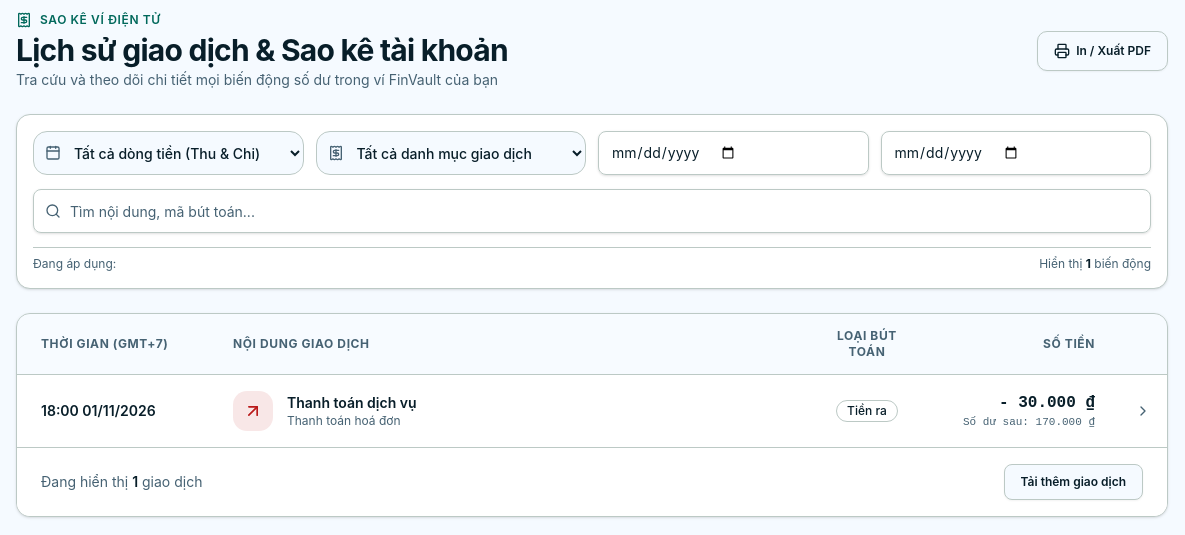
Test: TransactionsPage - Lịch sử giao dịch và bộ lọc ngày/loại [K20] › đổi bộ lọc tự động reset cursor về trang đầu và không trộn cache với dữ liệu cũ
The width and height of the screenshot is (1185, 535).
Expected: the text "Thanh toán hoá đơn" is shown, [287,413,417,429]
Note: Đổi bộ lọc sang TOPUP
Step 1. Select "Nạp tiền vào ví" in the dropdown named "Lọc loại giao dịch" → point(451, 153), box [316,131,586,175]
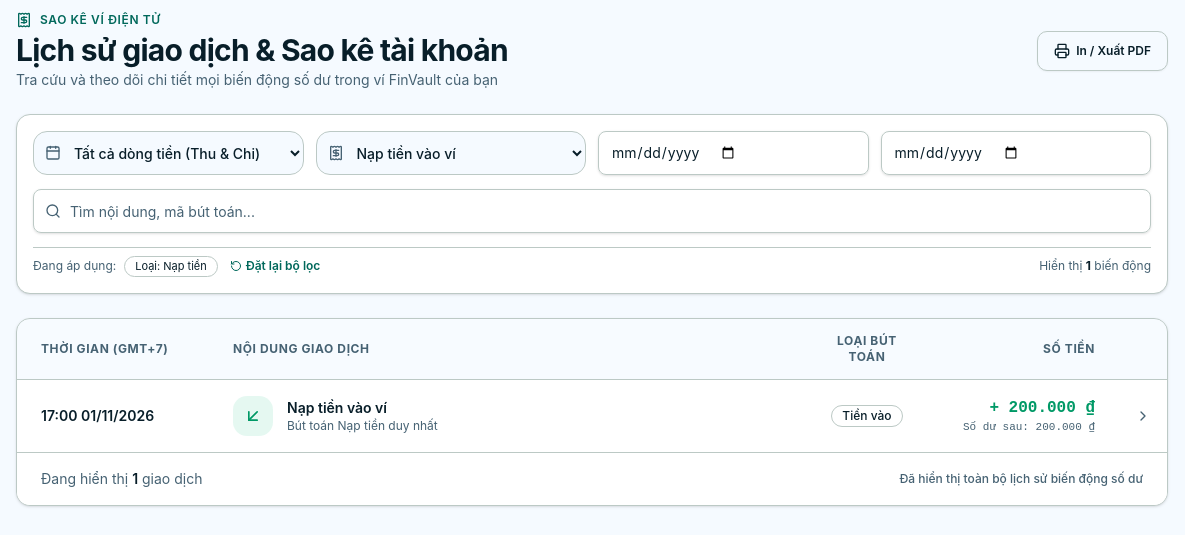
Expected: the text "Bút toán Nạp tiền duy nhất" is shown, [287,418,438,434]
Expected: the text "Thanh toán hoá đơn" is gone
